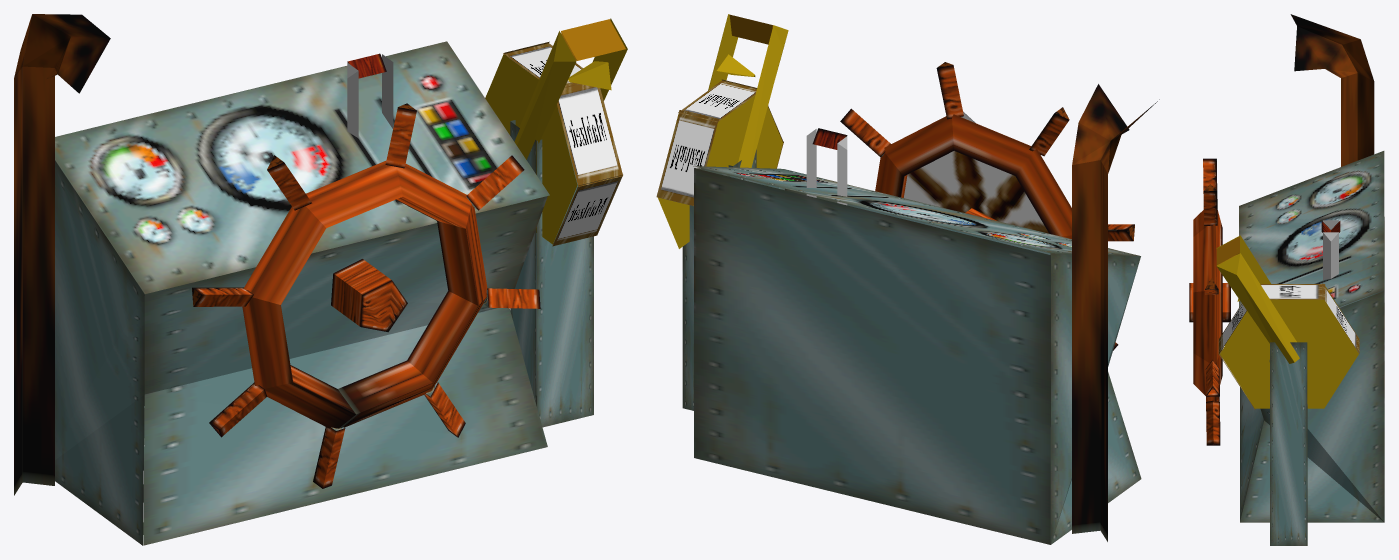
The model's file is Schiff_Steuerrad_224.glb.
3 views of the same model, side by side, from view 1: azimuth 30°, elevation 25°; view 2: azimuth 150°, elevation 25°; view 3: azimuth 270°, elevation 25° (orthographic). The views are drawn at different scales.
Visible parts, largest first — view 1: pPlaneShape10, pPlaneShape1, pTorusShape2, pPlaneShape12, pCylinderShape50, pPlaneShape15, pCylinderShape41, pPlaneShape4, pCylinderShape32, pPlaneShape5, pPlaneShape17, pCylinderShape16 (+14 smaller); view 2: pPlaneShape11, pCylinderShape50, pPlaneShape12, pTorusShape2, pPlaneShape1, pPlaneShape9, pCylinderShape41, pPlaneShape8, pCylinderShape32, pPlaneShape14, pPlaneShape3, pCylinderShape19 (+6 smaller); view 3: pPlaneShape13, pPlaneShape1, pCylinderShape41, pPlaneShape16, pCylinderShape50, pTorusShape2, pCylinderShape31, pPlaneShape10, pPlaneShape3, pCylinderShape27, pCylinderShape21, pPlaneShape8 (+7 smaller).
Part boxes in pixels (x1,y1,x2,y2): pPlaneShape10: (143, 196, 547, 545); pPlaneShape1: (55, 41, 549, 293); pTorusShape2: (242, 161, 487, 428); pPlaneShape12: (55, 160, 144, 545); pCylinderShape50: (14, 14, 110, 495); pPlaneShape15: (537, 134, 593, 427); pCylinderShape41: (485, 54, 577, 244); pPlaneShape4: (557, 83, 622, 186); pCylinderShape32: (514, 31, 576, 159); pPlaneShape5: (552, 175, 622, 246); pPlaneShape17: (510, 121, 536, 406); pCylinderShape16: (331, 259, 391, 326); pPlaneShape11: (694, 168, 1050, 544); pCylinderShape50: (1072, 84, 1159, 541); pPlaneShape12: (1050, 253, 1141, 544); pTorusShape2: (875, 114, 1071, 238); pPlaneShape1: (693, 166, 1139, 255); pPlaneShape9: (904, 111, 1048, 233); pCylinderShape41: (657, 95, 782, 248); pPlaneShape8: (656, 110, 718, 206); pCylinderShape32: (738, 25, 788, 167); pPlaneShape14: (682, 165, 732, 410); pPlaneShape3: (678, 80, 756, 122); pCylinderShape19: (936, 62, 963, 119); pPlaneShape13: (1240, 291, 1384, 522); pPlaneShape1: (1239, 151, 1384, 307); pCylinderShape41: (1220, 286, 1358, 408); pPlaneShape16: (1270, 342, 1307, 545); pCylinderShape50: (1290, 14, 1374, 166); pTorusShape2: (1193, 210, 1222, 402); pCylinderShape31: (1216, 253, 1299, 363); pPlaneShape10: (1240, 387, 1263, 521); pPlaneShape3: (1260, 284, 1325, 299); pCylinderShape27: (1323, 232, 1338, 279); pCylinderShape21: (1206, 400, 1220, 445); pPlaneShape8: (1322, 283, 1359, 353).
Size of the model in its own units: 0.2548 by 0.2312 by 0.1134.
34 materials, 27 textured.
